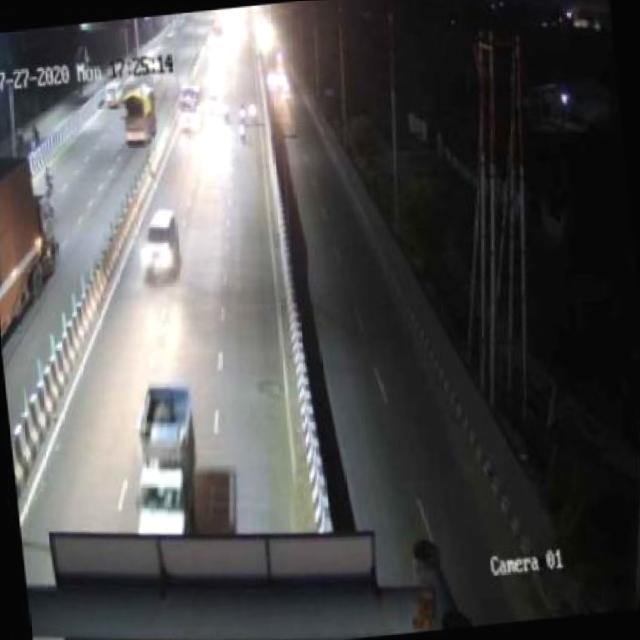car: (128, 203, 190, 288)
